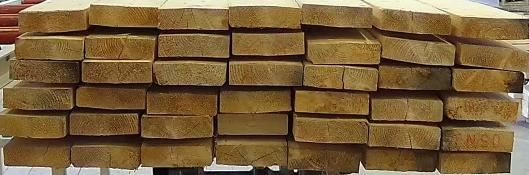Wood-Plank: (289, 140, 362, 172), (294, 117, 369, 144), (0, 109, 68, 138), (69, 108, 139, 136), (445, 97, 522, 122), (368, 124, 442, 150), (442, 126, 515, 152), (384, 37, 454, 64), (216, 140, 288, 166), (153, 61, 227, 86), (305, 65, 379, 90), (295, 89, 369, 114), (229, 61, 302, 86), (8, 59, 81, 84), (380, 9, 450, 35), (158, 33, 230, 58), (380, 65, 452, 90), (372, 97, 444, 122), (363, 148, 438, 172), (460, 46, 528, 72), (141, 114, 214, 138), (453, 68, 525, 92), (72, 146, 140, 171), (147, 92, 217, 116), (14, 37, 84, 61), (232, 32, 305, 55), (220, 90, 292, 113), (439, 152, 512, 174), (300, 6, 373, 28), (308, 42, 380, 64), (90, 4, 158, 27), (82, 62, 153, 84), (3, 87, 74, 109), (217, 113, 288, 135), (142, 145, 213, 167), (18, 10, 85, 33), (3, 146, 70, 168), (460, 17, 527, 39), (76, 88, 146, 109), (230, 7, 299, 28), (86, 37, 153, 58), (158, 8, 227, 28)
